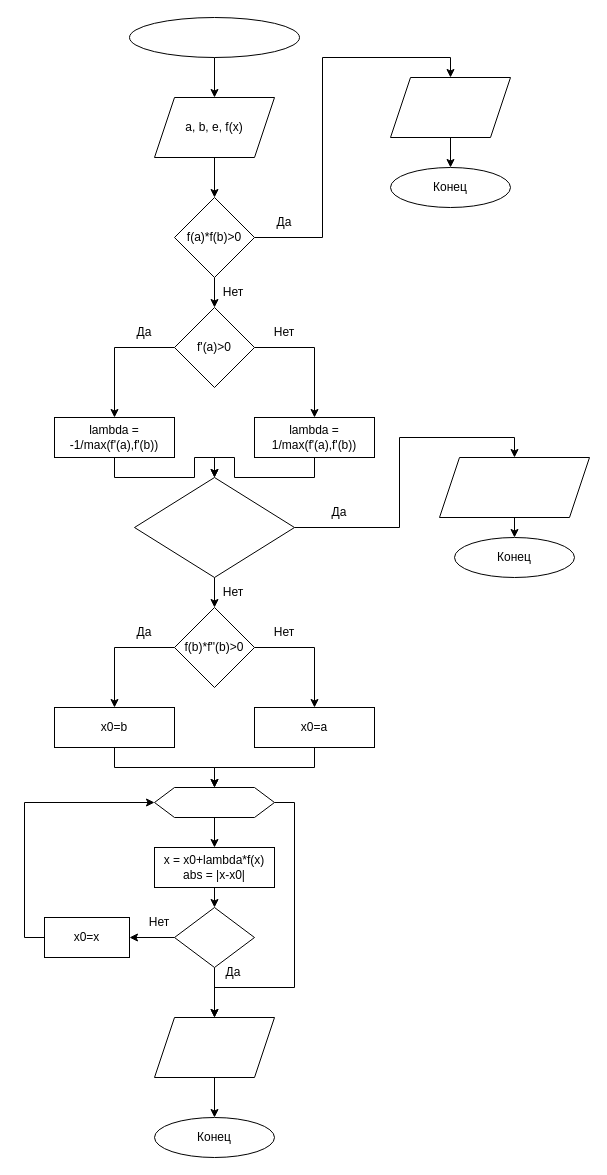
Some shapes in this 607 by 1175 pixel diagram are drawn without their labels. The shapes that lost their labels are listed below. From the top down, each one's centre as x and y in pixels, then its label:
(214,37): Старт
(450,107): Корней нет, несколько
(514,487): φ(a), φ(b) Метод не сходится
(214,527): |φ'(a)|>=1 or |φ'(b)|>=1
(214,802): n:0, 100
(214,937): abs<=e
(214,1047): x, f(x), n, abss
